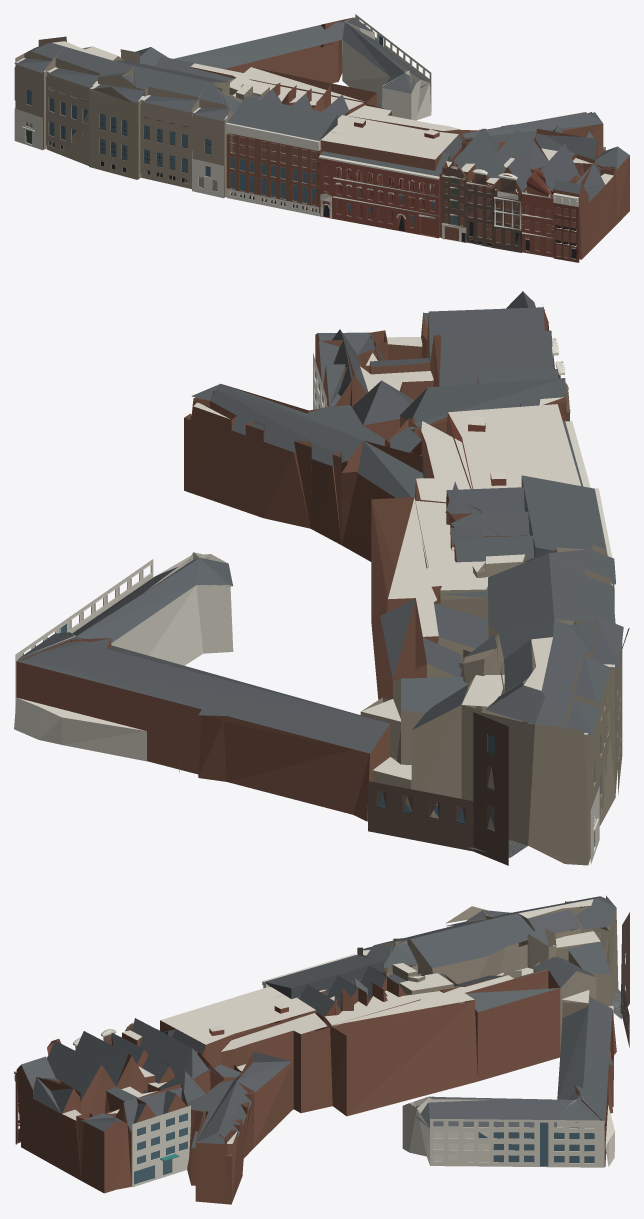
Rendered from oude-turfmarkt-139.lod1.glb.
3 renders of one model, top to bottom at view 1: azimuth 30°, elevation 25°; view 2: azimuth 150°, elevation 25°; view 3: azimuth 270°, elevation 25°, orthographic. The views are drawn at different scales.
Visible parts, largest first — view 1: oude-turfmarkt-139; view 2: oude-turfmarkt-139; view 3: oude-turfmarkt-139.
Boxes of the visible parts, x1=… form: oude-turfmarkt-139: x1=14, y1=14, x2=629, y2=262; oude-turfmarkt-139: x1=14, y1=291, x2=629, y2=865; oude-turfmarkt-139: x1=14, y1=896, x2=629, y2=1204.
Size of the model in its own units: 101 by 22.19 by 118.
